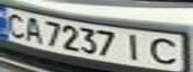2: (57, 21, 81, 53)
3: (78, 25, 100, 56)
7: (93, 27, 118, 58), (39, 18, 63, 47)
A: (21, 15, 45, 44)
C: (145, 35, 187, 66), (0, 10, 30, 39)
I: (121, 30, 148, 63)
